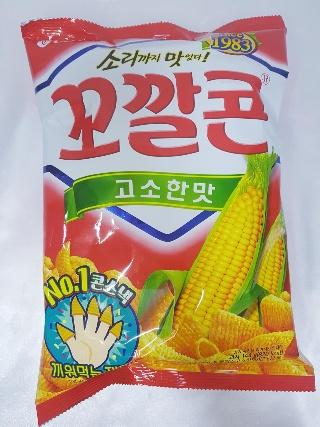snack: (20, 16, 316, 427)
